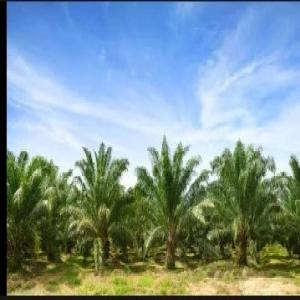palm tree: (134, 132, 210, 269), (209, 136, 280, 264), (66, 141, 134, 274)
